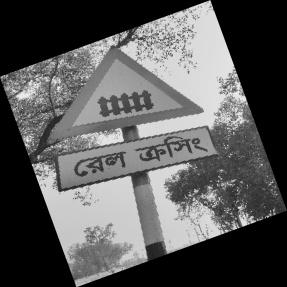Rail-crossing: (44, 48, 217, 195)
